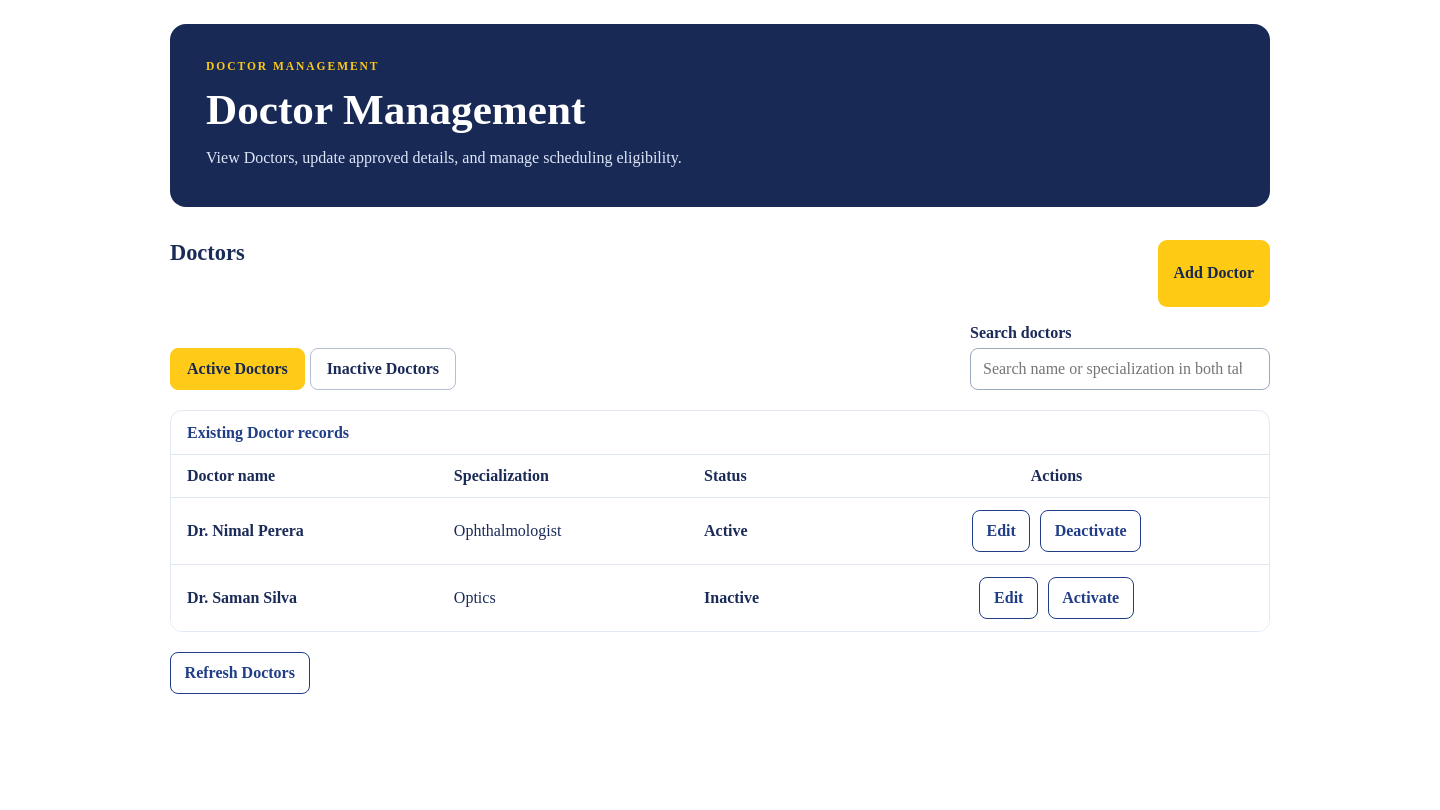
it: Doctor Management (DDP-094 Phase 6) › handles scheduling conflicts without reporting success
What coordinates should you click on to do the following:
click the button named "Deactivate Dr. Nimal Perera"
I would click on:
 (1091, 531)
Its box is [1040,510,1141,552].
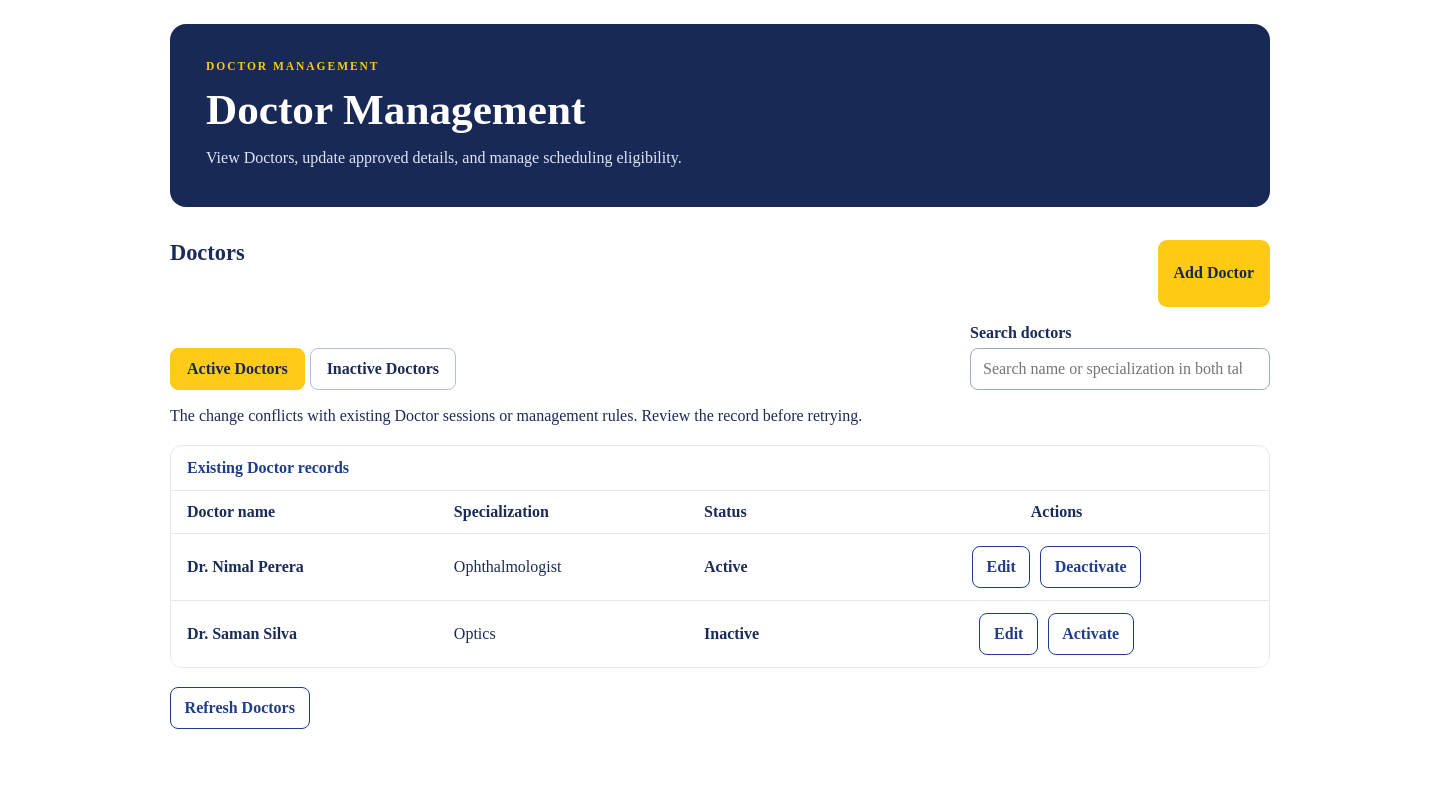
Check: the text "conflicts with existing Doctor sessions" is shown, box [170,407,862,424]
